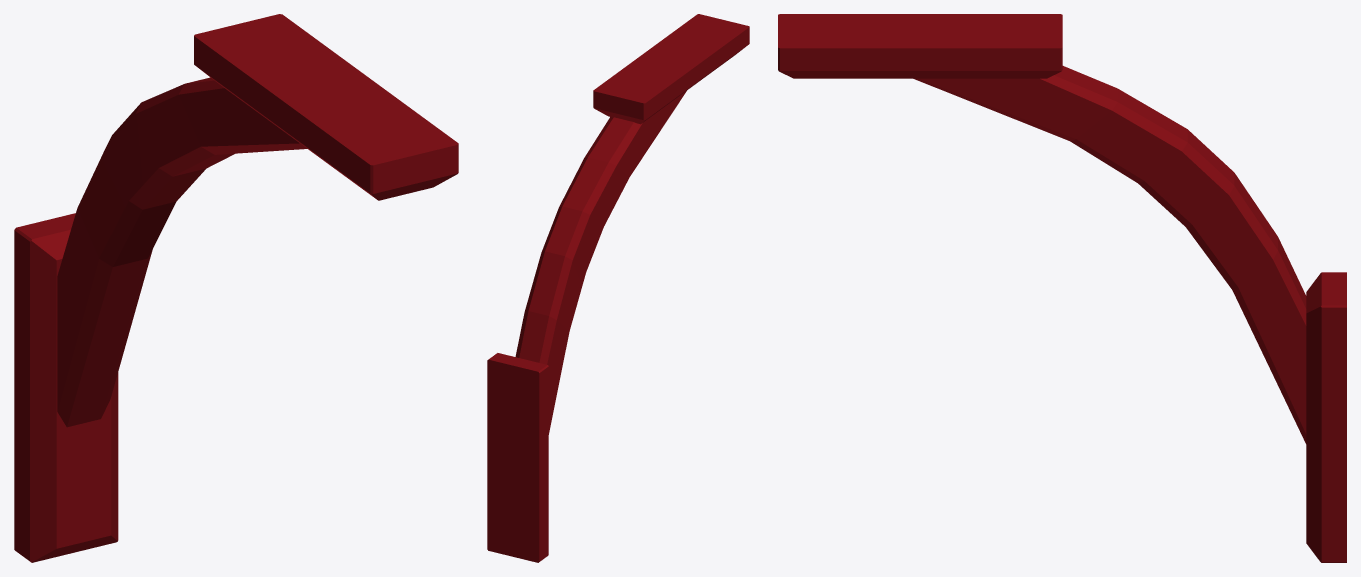
The model's file is SM_MH_01_Wood_Frame_Corner_01.fbx.
3 renders of one model, left to right at view 1: azimuth 30°, elevation 25°; view 2: azimuth 150°, elevation 25°; view 3: azimuth 270°, elevation 25°, orthographic. The views are drawn at different scales.
Parts seen in each view (by area): view 1: SM_MH_01_Wood_Frame_Corner_01_LOD0; view 2: SM_MH_01_Wood_Frame_Corner_01_LOD0; view 3: SM_MH_01_Wood_Frame_Corner_01_LOD0.
Part boxes in pixels (<box>): SM_MH_01_Wood_Frame_Corner_01_LOD0: <box>14,14,458,562</box>; SM_MH_01_Wood_Frame_Corner_01_LOD0: <box>487,14,749,562</box>; SM_MH_01_Wood_Frame_Corner_01_LOD0: <box>778,14,1346,562</box>.
Size of what is drawn, in the model's own units: 20 by 140 by 140.
